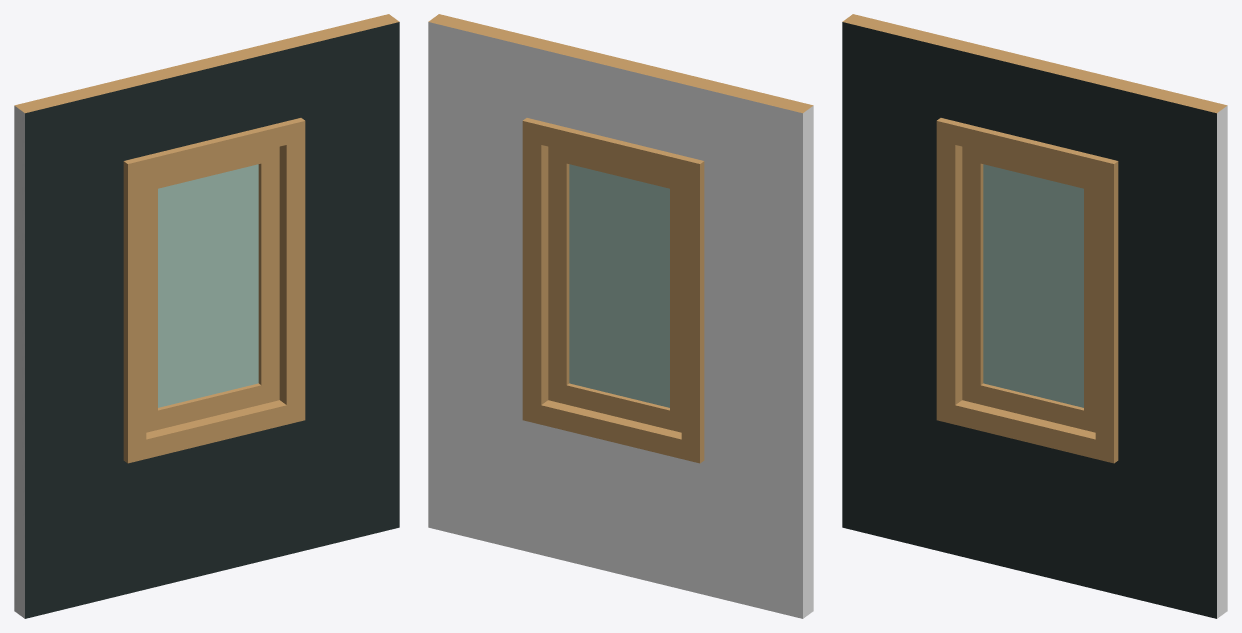
Rendered from wallWindow.glb.
3 renders of one model, left to right at view 1: azimuth 30°, elevation 25°; view 2: azimuth 150°, elevation 25°; view 3: azimuth 330°, elevation 25°, orthographic.
Bounding box in the file's own units: 10 × 12.9 × 0.891.
